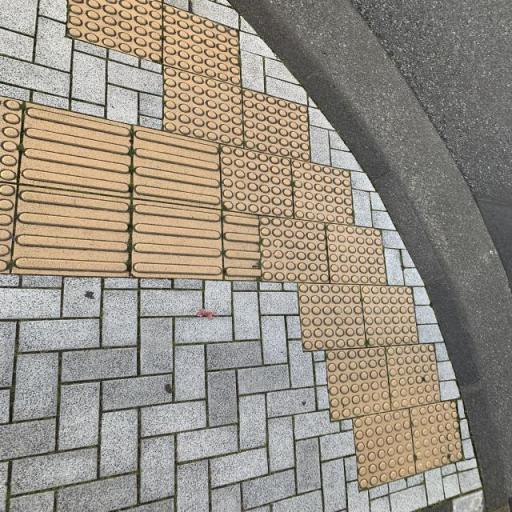dot: (162, 64, 245, 148), (162, 2, 241, 85), (64, 0, 162, 64), (220, 143, 295, 219), (351, 408, 416, 492), (241, 86, 311, 161), (325, 346, 392, 422), (258, 216, 329, 282), (298, 284, 366, 352), (291, 159, 354, 225), (409, 400, 463, 474), (384, 343, 441, 411), (326, 223, 387, 286), (361, 287, 419, 347)
line: (18, 102, 135, 199), (8, 187, 132, 277), (131, 199, 226, 280), (132, 127, 223, 210), (223, 210, 262, 284)
